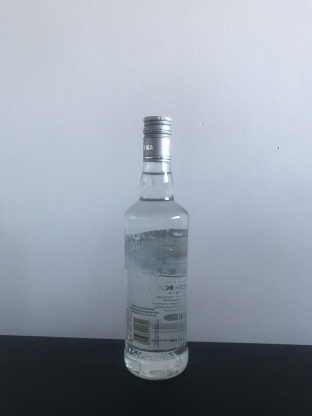nakretka: (141, 114, 172, 163)
